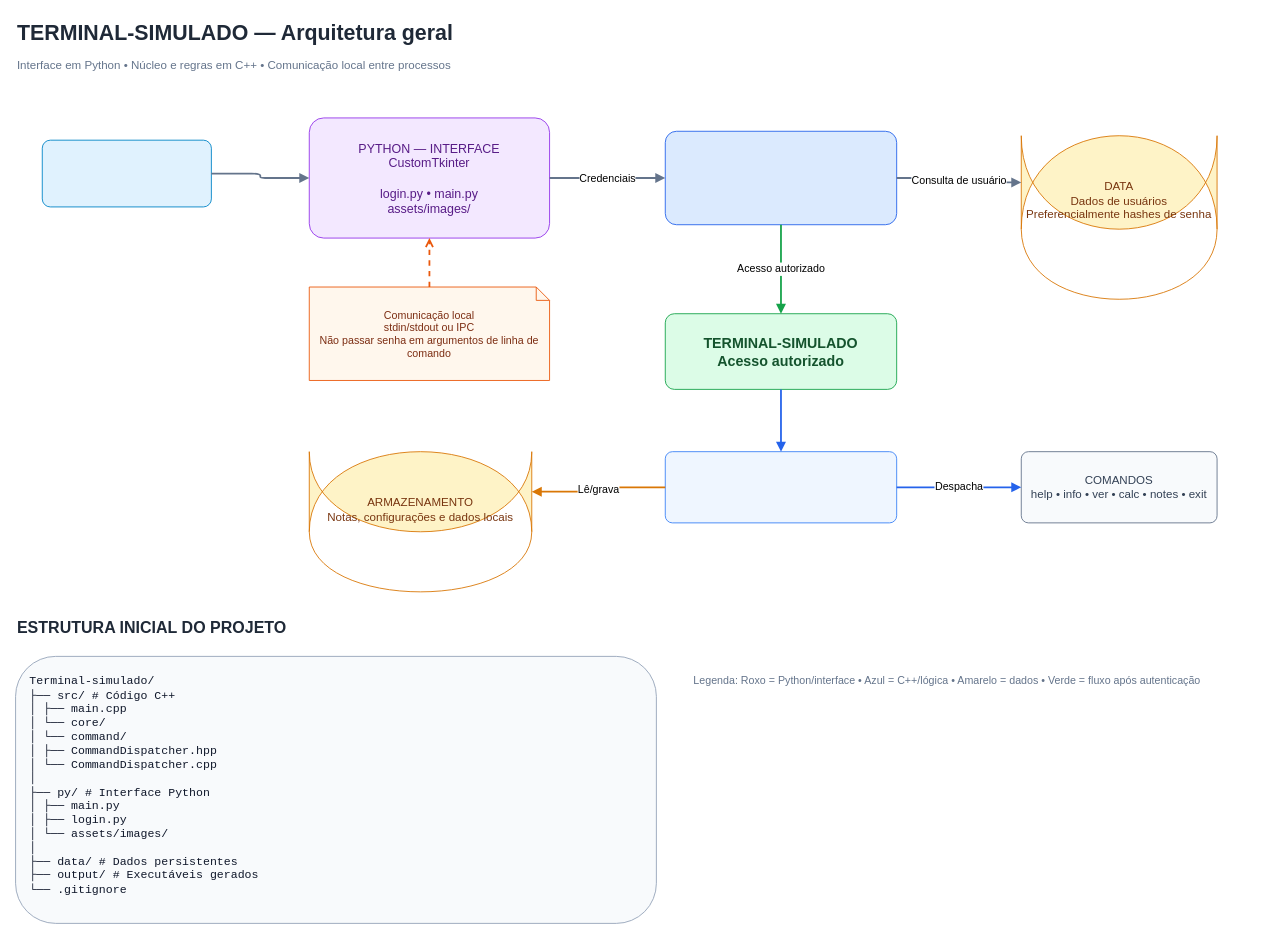
Image size: 1286x939. Some labels were removed from this diagram. Here are the shapes that lost their labels. From the top down, the centre of each, then its label:
At pixel 126 173: "USUÁRIO Informa usuário e senha".
At pixel 780 177: "C++ — AUTENTICAÇÃO Recebe credenciais e valida as regras de acesso".
At pixel 780 487: "CORE C++ — COMMAND DISPATCHER Localiza e executa comandos registrados".
